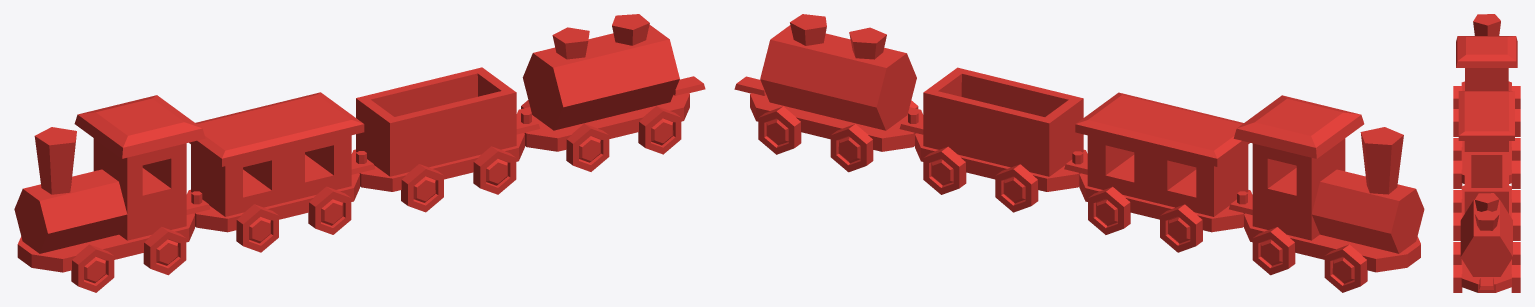
The model's file is SM_Toy_Train.fbx.
The picture shows the model from 3 angles, left to right: view 1: azimuth 30°, elevation 25°; view 2: azimuth 150°, elevation 25°; view 3: azimuth 270°, elevation 25°; orthographic projection. The views are drawn at different scales.
Visible parts, largest first — view 1: toy-train-a, toy-train-b, toy-train-d, toy-train-c; view 2: toy-train-a, toy-train-b, toy-train-d, toy-train-c; view 3: toy-train-d, toy-train-b, toy-train-a, toy-train-c.
Part boxes in pixels (x1,y1,x2,y2): toy-train-a: (14, 95, 210, 292); toy-train-b: (186, 92, 375, 252); toy-train-d: (516, 14, 705, 171); toy-train-c: (351, 67, 539, 212); toy-train-a: (1229, 95, 1424, 292); toy-train-b: (1064, 92, 1252, 252); toy-train-d: (734, 14, 923, 172); toy-train-c: (899, 67, 1087, 212); toy-train-d: (1453, 193, 1520, 292); toy-train-b: (1453, 91, 1520, 188); toy-train-a: (1453, 14, 1520, 136); toy-train-c: (1453, 152, 1520, 240).
Bounding box in the file's own units: 0.7496 × 0.1493 × 0.1.
